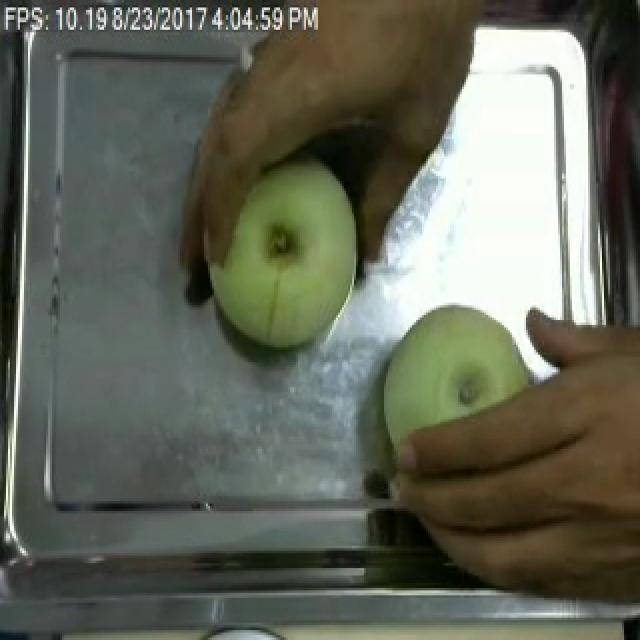50-_ripeness: (203, 164, 370, 364), (382, 303, 543, 487)
